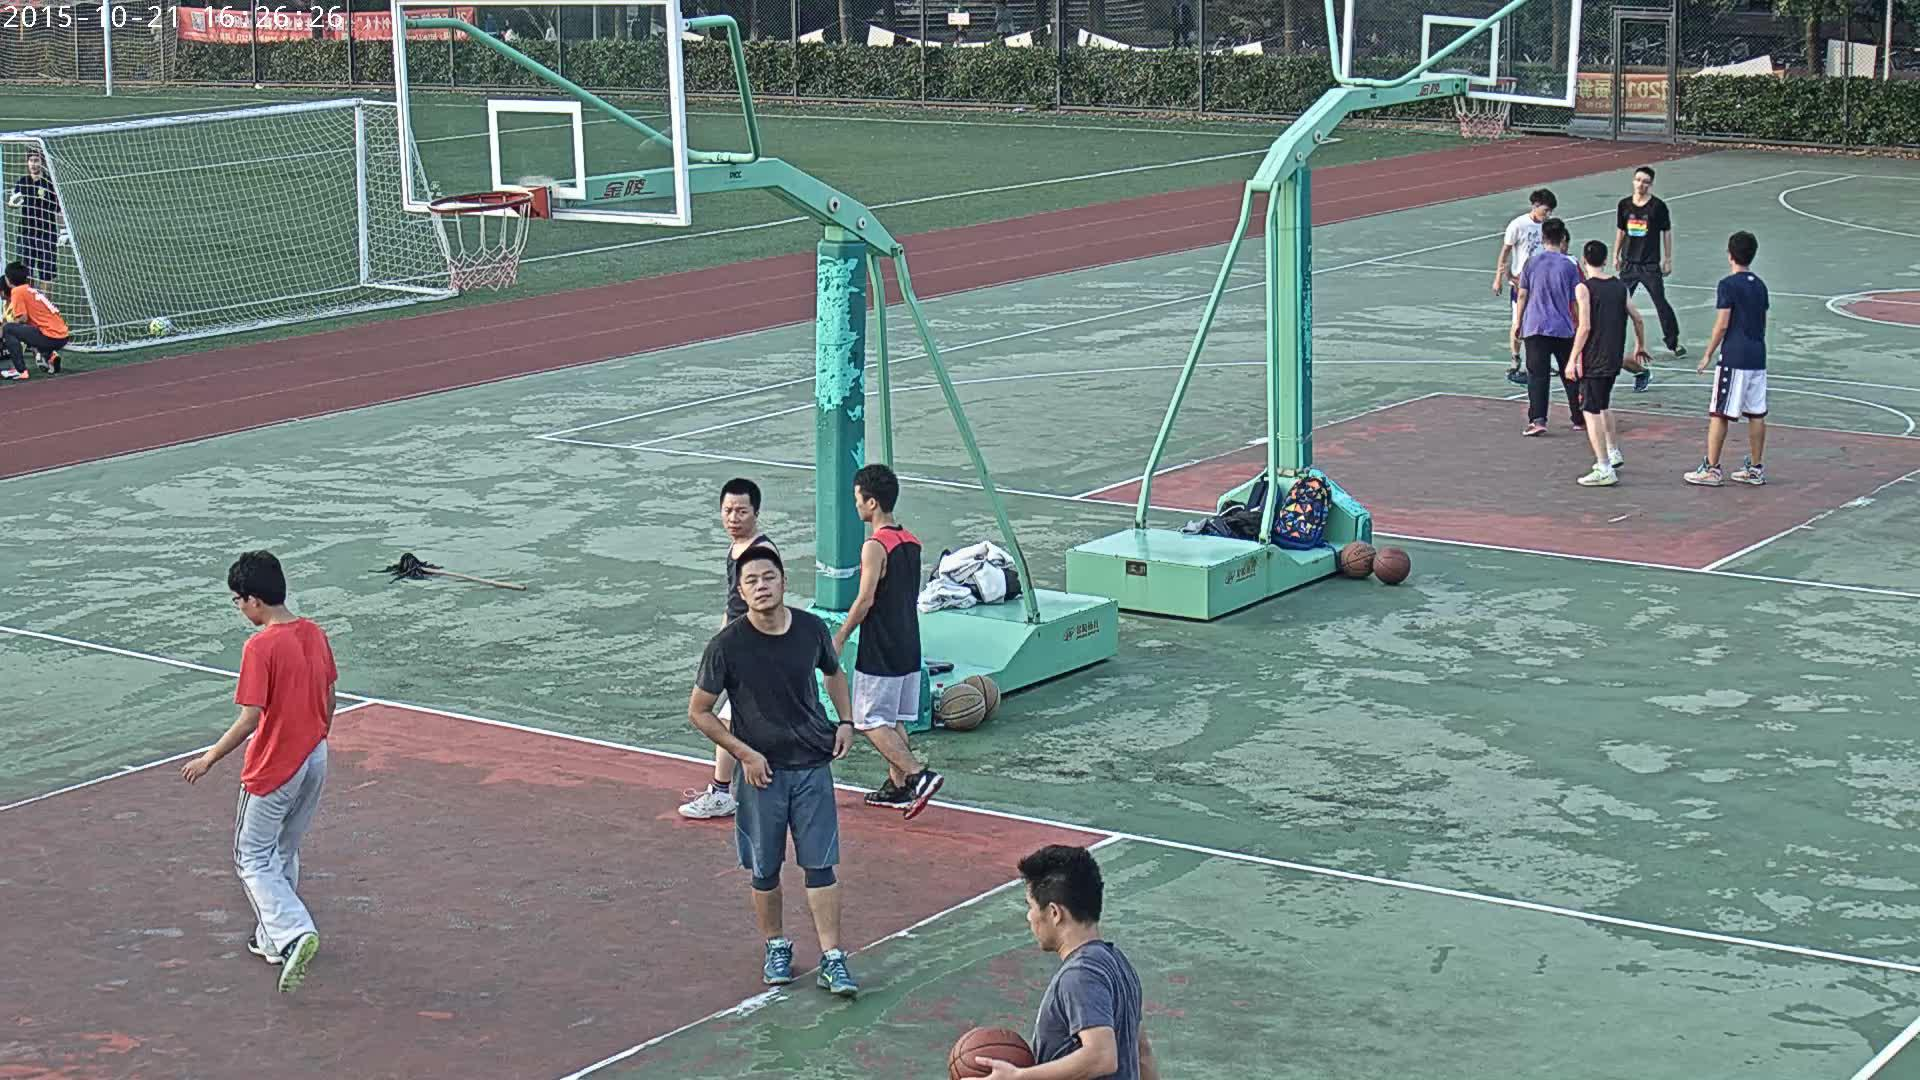person: (688, 547, 859, 994), (179, 550, 336, 996), (950, 843, 1159, 1080), (958, 843, 1160, 1080), (830, 464, 943, 820), (676, 477, 781, 819), (1564, 239, 1652, 485), (1682, 231, 1767, 485), (1510, 217, 1579, 436), (1614, 166, 1688, 360), (1492, 188, 1557, 382), (8, 149, 68, 306), (0, 261, 69, 380), (1171, 0, 1193, 48), (994, 0, 1014, 40), (503, 18, 518, 41), (545, 18, 556, 42)
